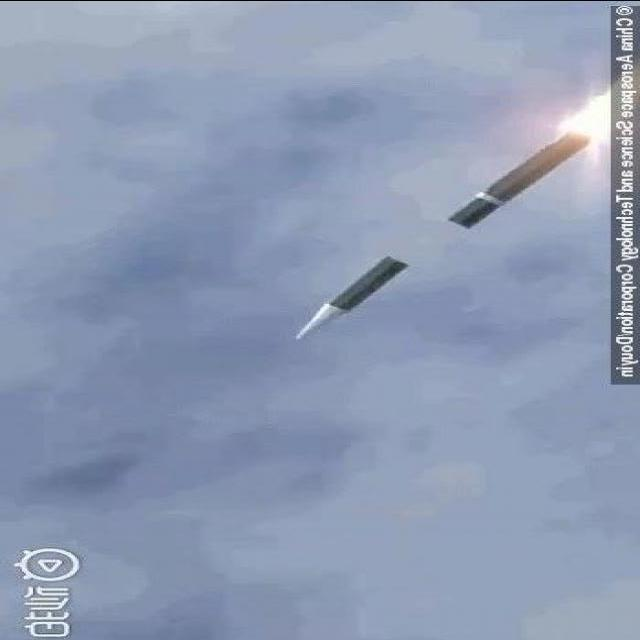missile: (287, 254, 408, 340)
